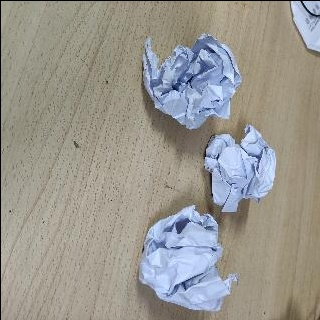8/可回收垃圾/纸: (137, 205, 237, 311), (142, 32, 242, 129), (204, 125, 276, 213)
